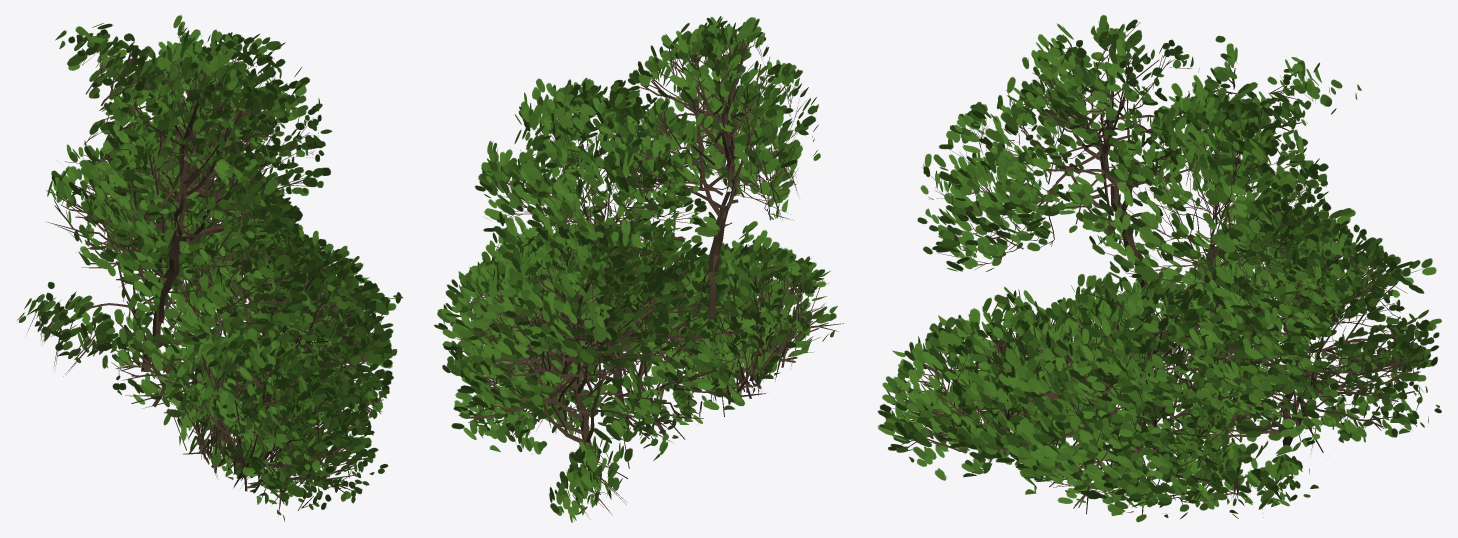
3 renders of one model, left to right at view 1: azimuth 30°, elevation 25°; view 2: azimuth 150°, elevation 25°; view 3: azimuth 270°, elevation 25°, orthographic. The views are drawn at different scales.
Parts seen in each view (by area): view 1: oak 01.001_trunk_Mat.001_0.492; view 2: oak 01.001_trunk_Mat.001_0.492; view 3: oak 01.001_trunk_Mat.001_0.492.
Boxes of the visible parts, x1,y1,x2,y2 form: oak 01.001_trunk_Mat.001_0.492: (17, 15, 403, 521); oak 01.001_trunk_Mat.001_0.492: (433, 16, 843, 522); oak 01.001_trunk_Mat.001_0.492: (877, 15, 1441, 522).
Bounding box in the file's own units: 3.22 × 5.13 × 6.13.
Materials: 2 (1 with a texture image).
